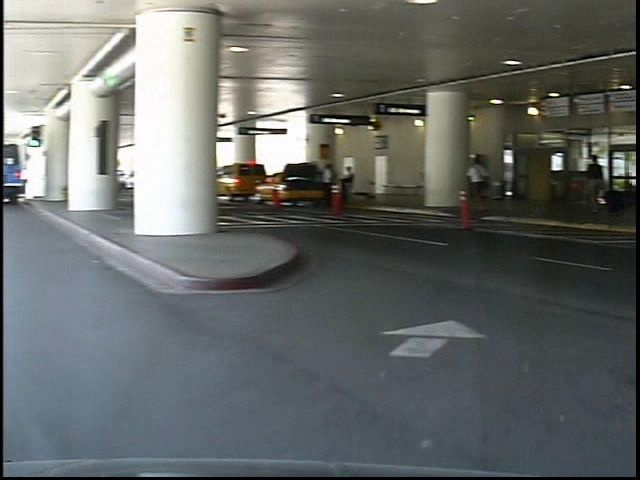person: (589, 148, 615, 219), (473, 151, 500, 214)
